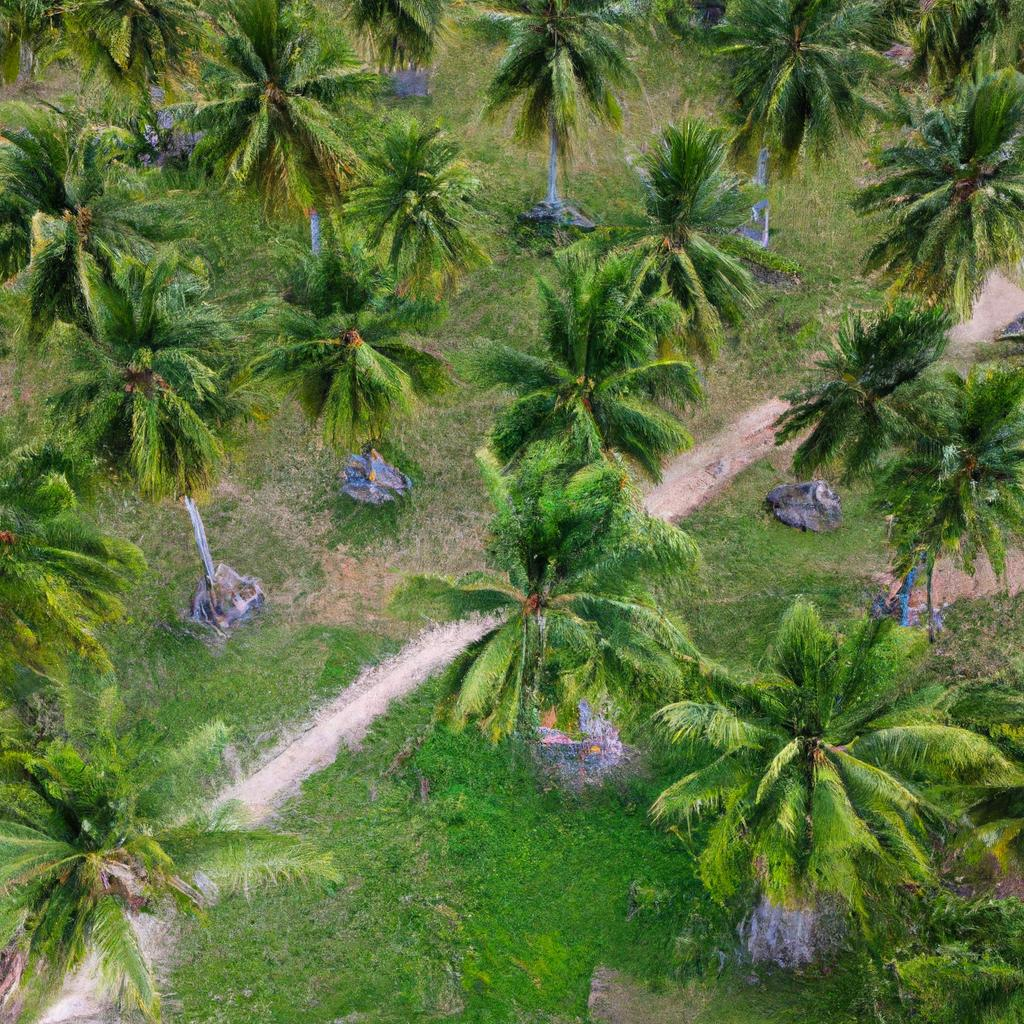coconut_tree: (657, 593, 1023, 950), (408, 458, 725, 747), (49, 243, 282, 516), (460, 272, 727, 472), (249, 224, 465, 451), (182, 1, 395, 210), (757, 289, 970, 488)
